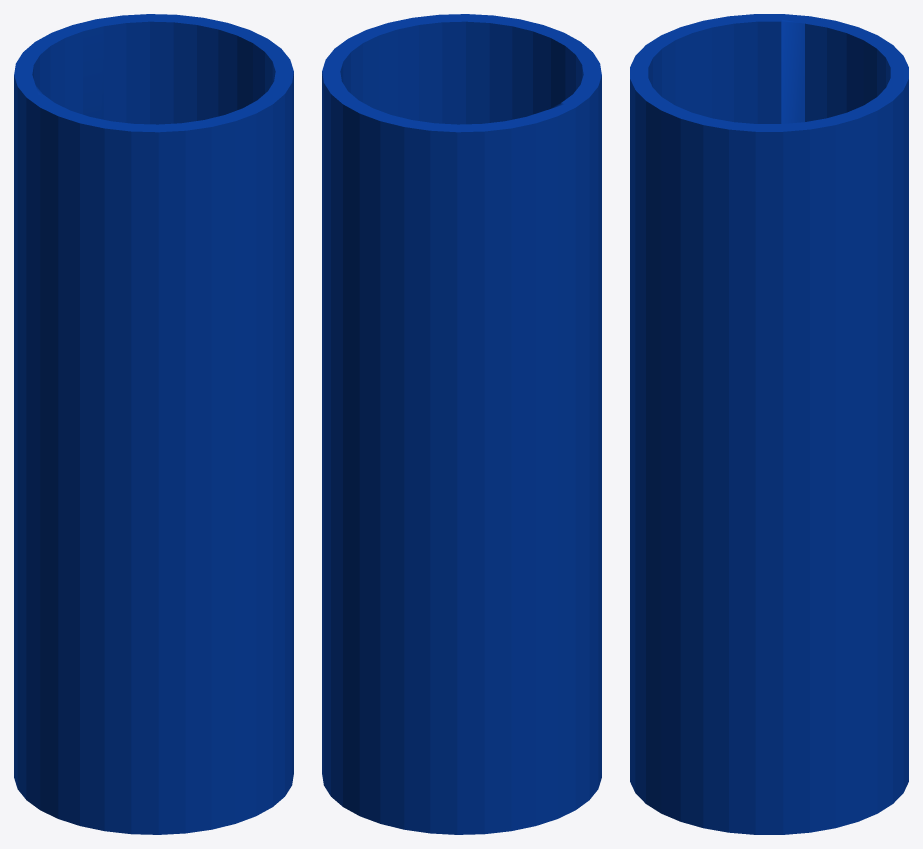
File: SM_Tube_Poussoir.FBX
3 views of the same model, side by side, from view 1: azimuth 30°, elevation 25°; view 2: azimuth 150°, elevation 25°; view 3: azimuth 270°, elevation 25° (orthographic).
Visible parts, largest first — view 1: SM_Tube_Poussoir; view 2: SM_Tube_Poussoir; view 3: SM_Tube_Poussoir.
Boxes of the visible parts, x1,y1,x2,y2 form: SM_Tube_Poussoir: (14, 14, 293, 834); SM_Tube_Poussoir: (322, 14, 601, 834); SM_Tube_Poussoir: (630, 14, 908, 834).
Bounding box in the file's own units: 92 × 92 × 256.
